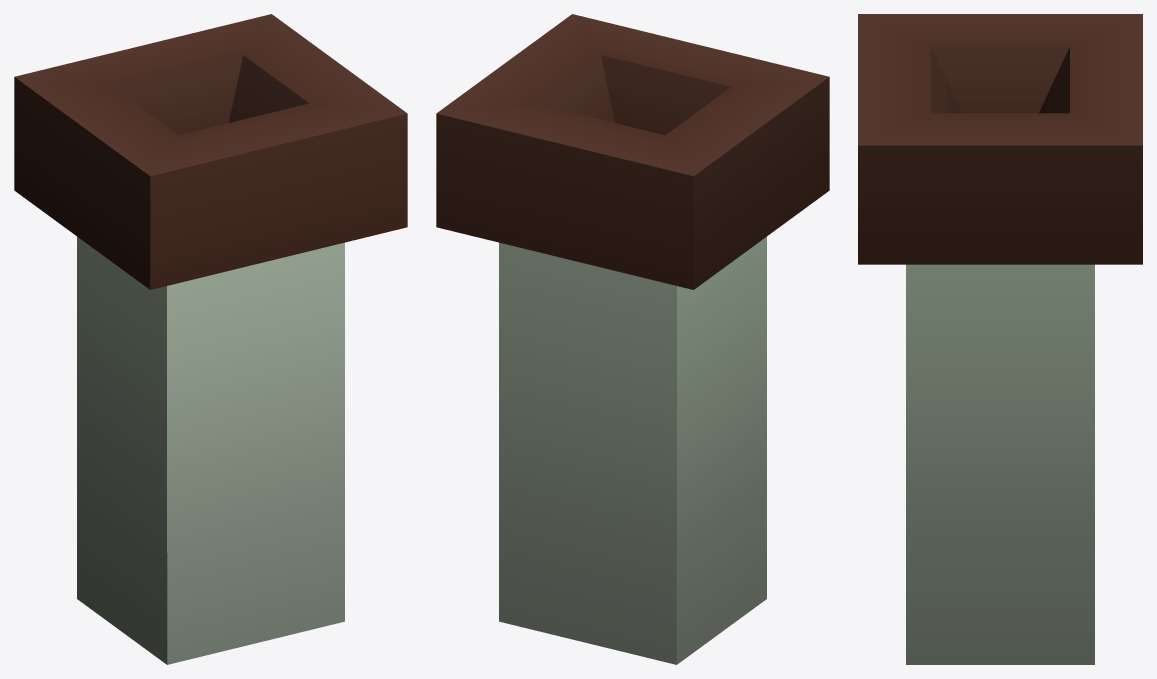
File: Chimney_01B.fbx
3 views of the same model, side by side, from view 1: azimuth 30°, elevation 25°; view 2: azimuth 150°, elevation 25°; view 3: azimuth 270°, elevation 25° (orthographic). The views are drawn at different scales.
Visible parts, largest first — view 1: Chimney_01B; view 2: Chimney_01B; view 3: Chimney_01B.
Boxes of the visible parts, x1,y1,x2,y2 form: Chimney_01B: (14, 14, 407, 664); Chimney_01B: (436, 14, 829, 664); Chimney_01B: (858, 14, 1142, 664).
Size of the model in its own units: 142 by 272 by 130.
2 materials, 2 textured.
